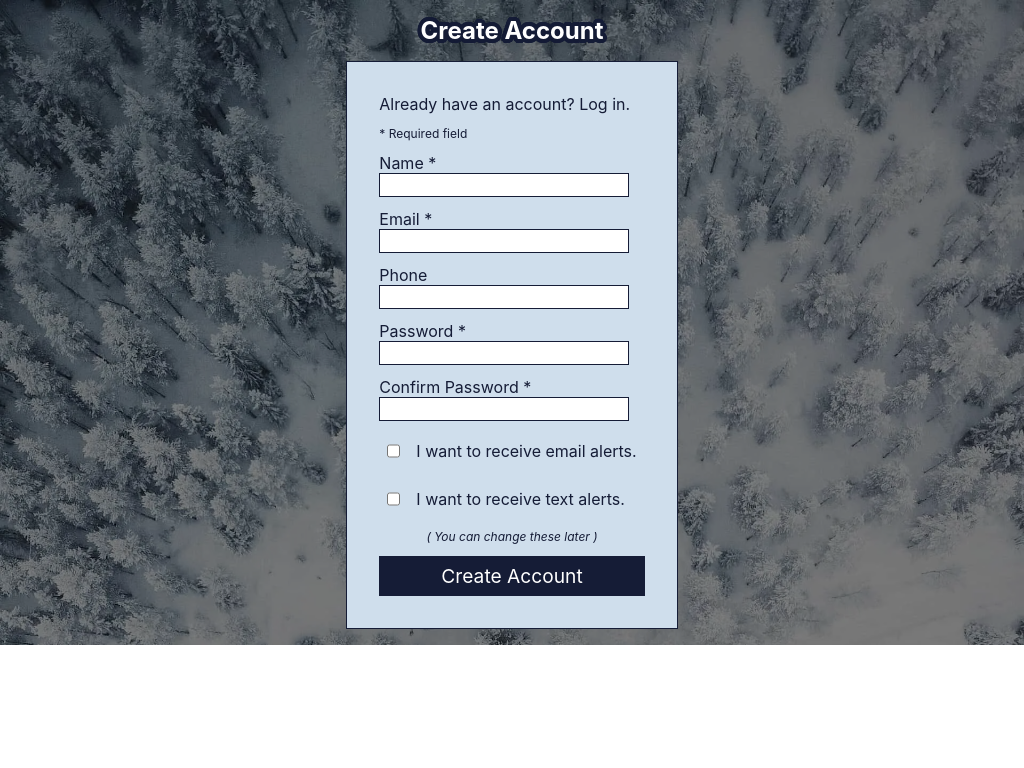
Test: Displays email validation error properly
The width and height of the screenshot is (1024, 768).
Expected: the text "Enter a valid email." is not shown
Type "bademail@.com" into the field labelled "Email" at (504, 241), box [379, 229, 629, 253]
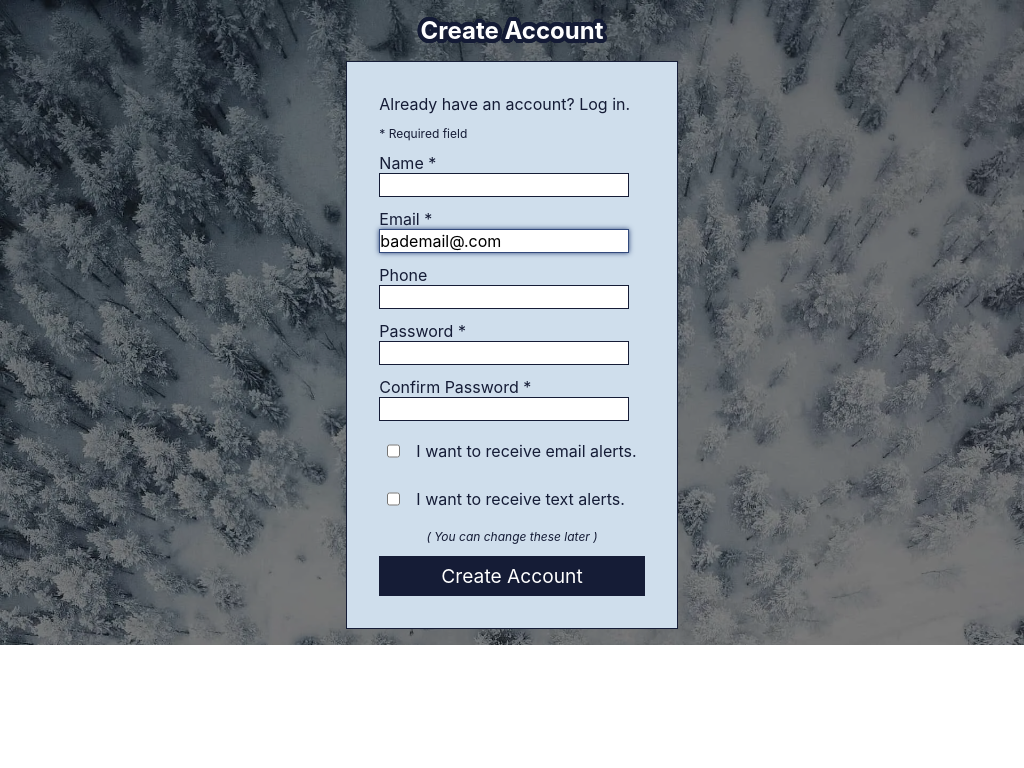
Click the element that starts with "Create Account" at (512, 384), box [0, 0, 1023, 767]
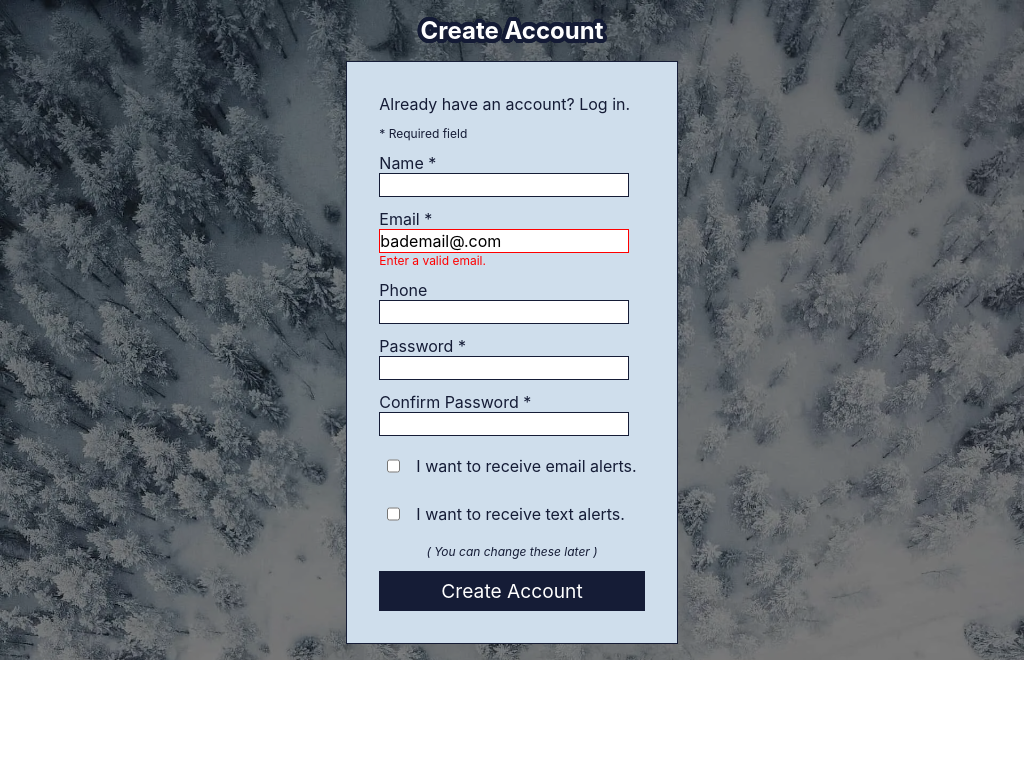
Expected: the text "Enter a valid email." is shown, [379, 253, 486, 268]
# Valid email with lots of symbols
Replace the text in the field labelled "Email" with "test@-1*%^!O@email.com" at (504, 241), box [379, 229, 629, 253]
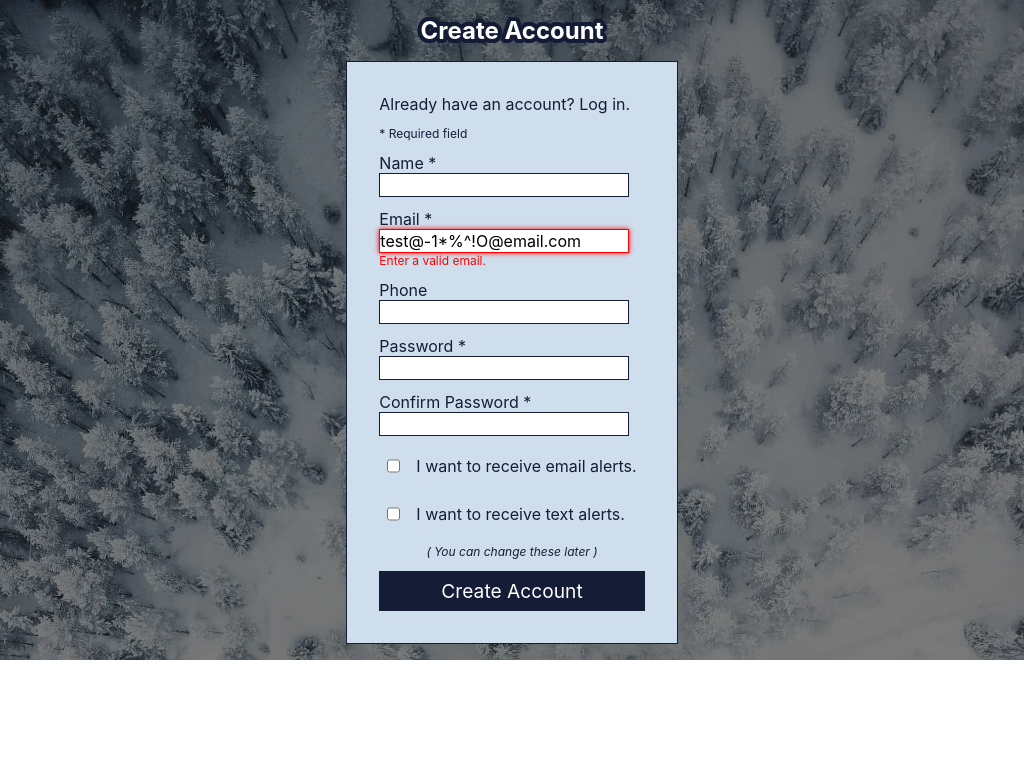
Click the element that starts with "Create Account" at (512, 384), box [0, 0, 1023, 767]
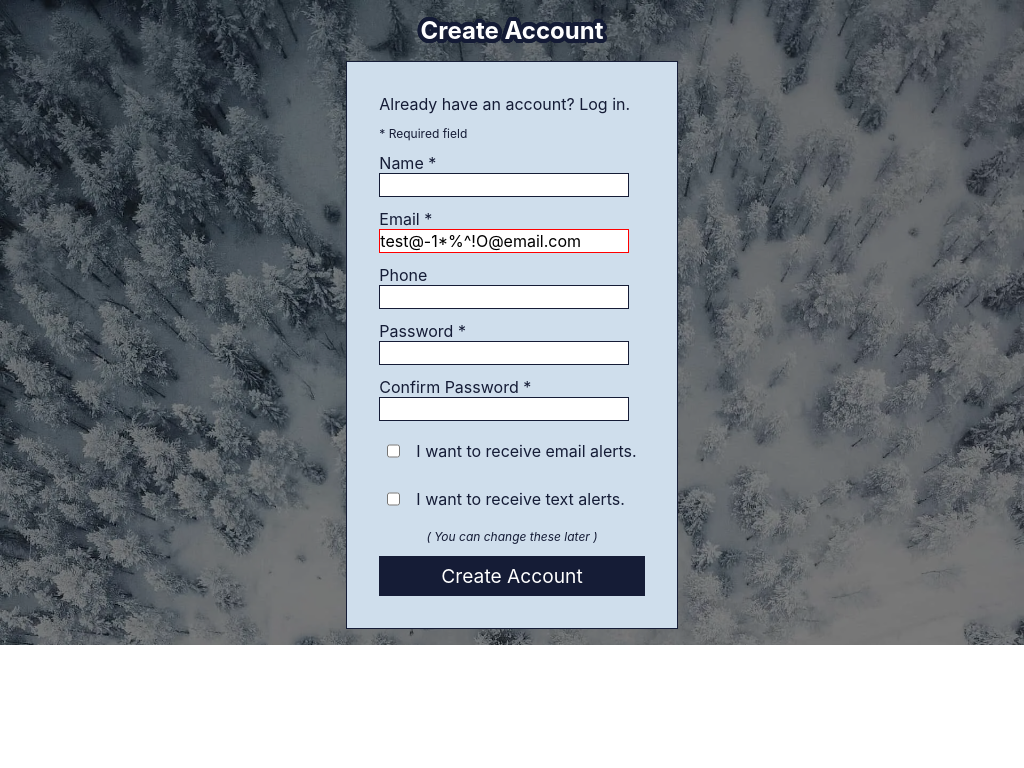
Expected: the text "Enter a valid email." is gone
